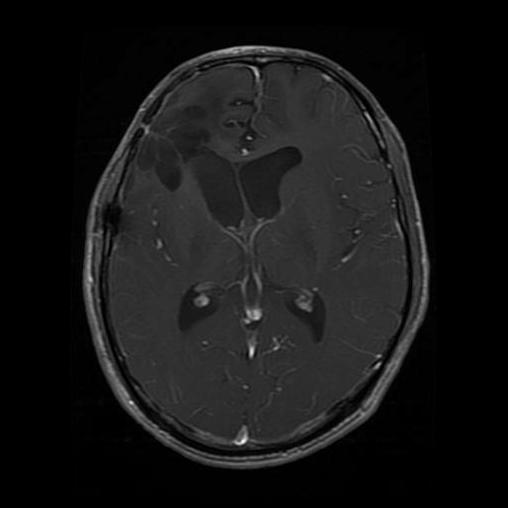Tumour-Glioma: (149, 103, 212, 186)
